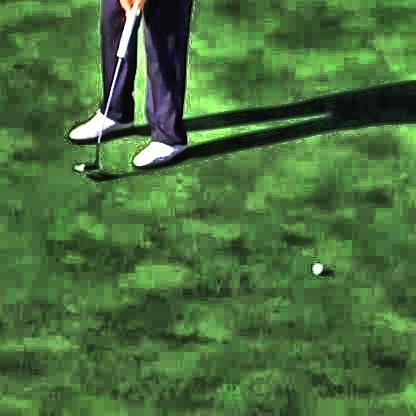golfball: (308, 259, 319, 272)
